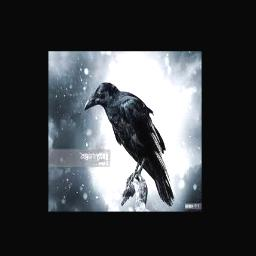Crow: (85, 81, 175, 206)
